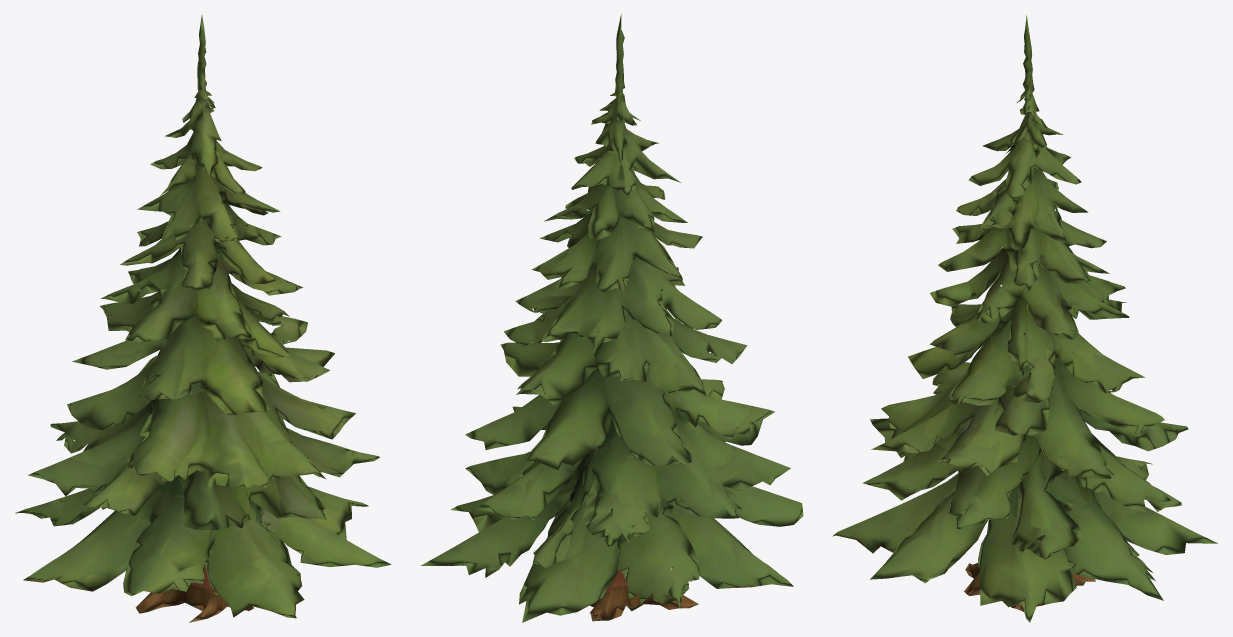
Rendered from pine.glb.
3 views of the same model, side by side, from view 1: azimuth 30°, elevation 25°; view 2: azimuth 150°, elevation 25°; view 3: azimuth 270°, elevation 25° (orthographic).
Bounding box in the file's own units: 1.24 × 2 × 1.22.
Materials: 1 (1 with a texture image).
